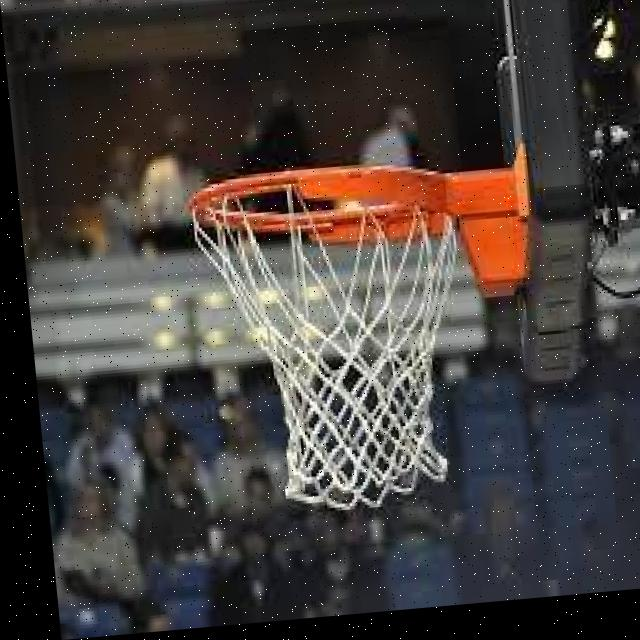hoop: (175, 144, 575, 541)
